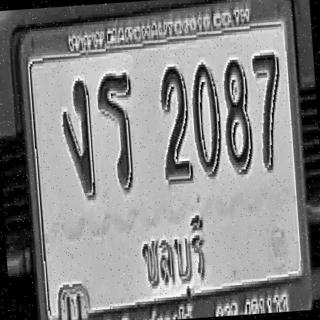A07: (59, 77, 96, 199)
A35: (96, 71, 138, 193)
N00: (190, 61, 223, 178)
N02: (158, 63, 193, 182)
N07: (251, 51, 285, 170)
N08: (220, 56, 254, 173)
P13: (136, 210, 208, 301)
